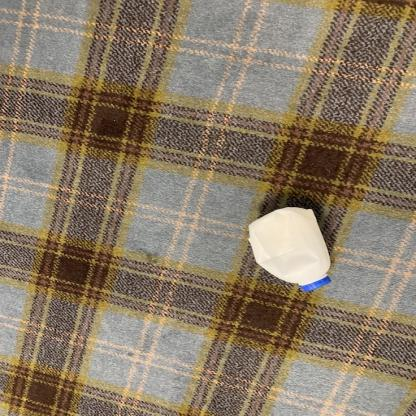trash: (244, 206, 337, 291)
